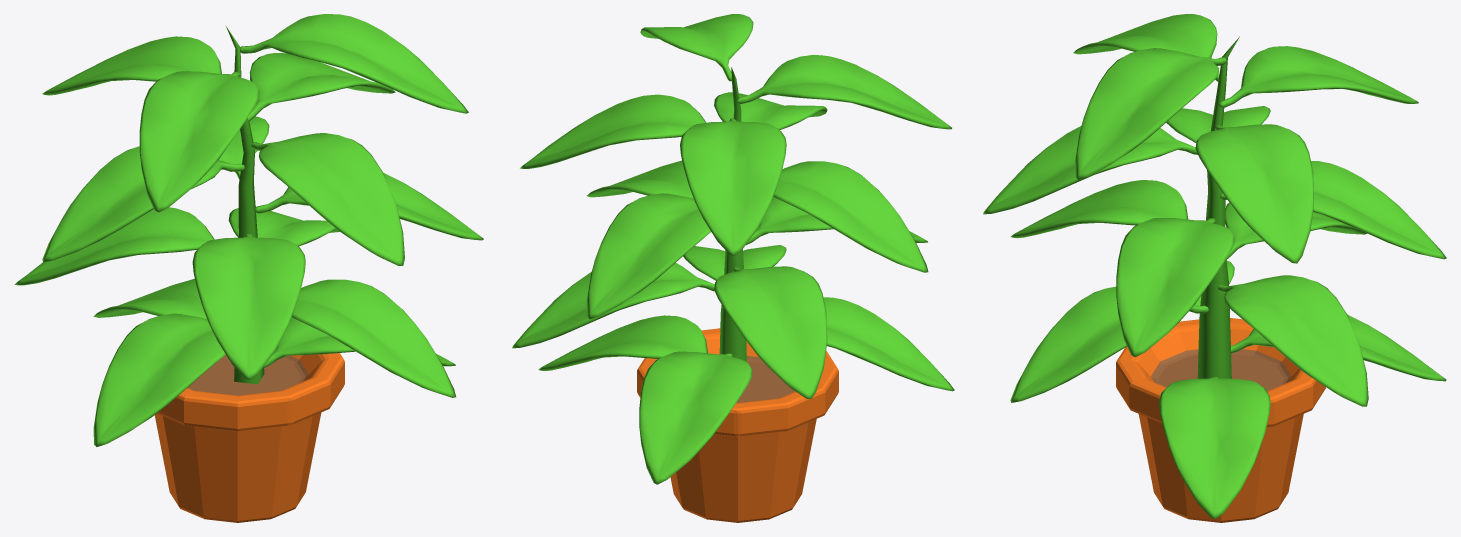
The model's file is pot.fbx.
The picture shows the model from 3 angles, left to right: view 1: azimuth 30°, elevation 25°; view 2: azimuth 150°, elevation 25°; view 3: azimuth 270°, elevation 25°; orthographic projection. The views are drawn at different scales.
Parts seen in each view (by area): view 1: pot; view 2: pot; view 3: pot.
Part boxes in pixels (left/top/right/bottom): pot: left=14, top=14, right=483, bottom=522; pot: left=512, top=14, right=954, bottom=522; pot: left=983, top=14, right=1446, bottom=522.
Size of the model in its own units: 102 by 110 by 100.
